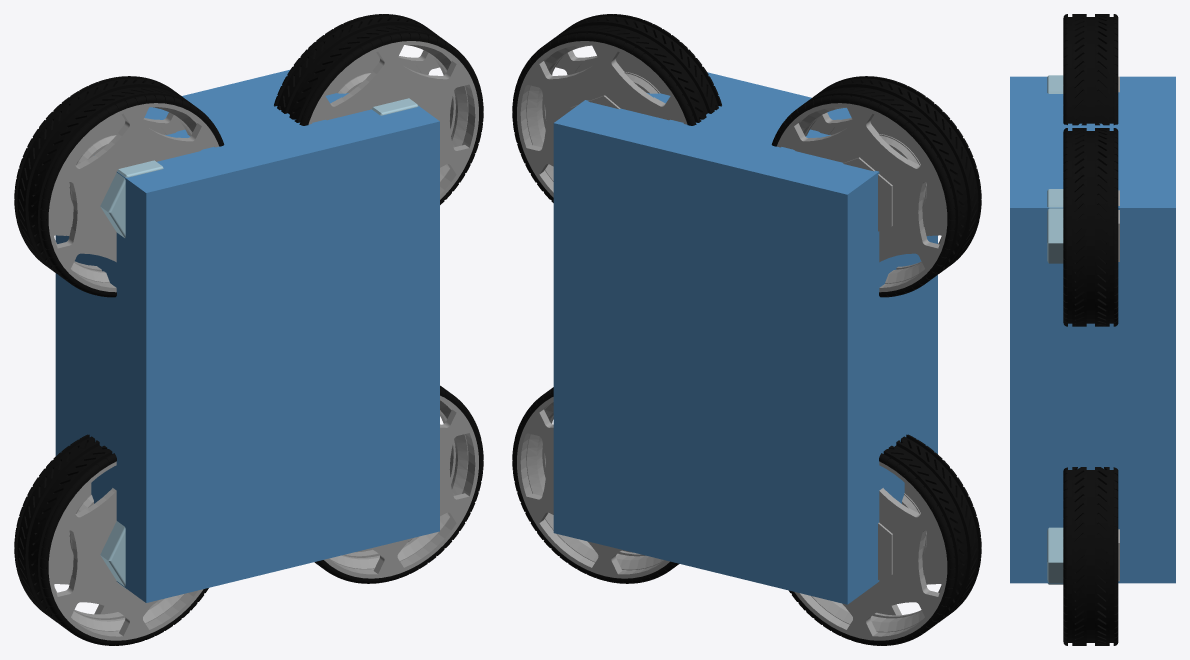
The model's file is robot_with_wheels_frame_000.glb.
3 renders of one model, left to right at view 1: azimuth 30°, elevation 25°; view 2: azimuth 150°, elevation 25°; view 3: azimuth 270°, elevation 25°, orthographic. The views are drawn at different scales.
Visible parts, largest first — view 1: world; view 2: world; view 3: world.
Part boxes in pixels (x1,y1,x2,y2): world: (14, 14, 483, 645); world: (512, 14, 981, 645); world: (1010, 14, 1175, 645).
Size of the model in its own units: 0.226 by 0.266 by 0.08.
